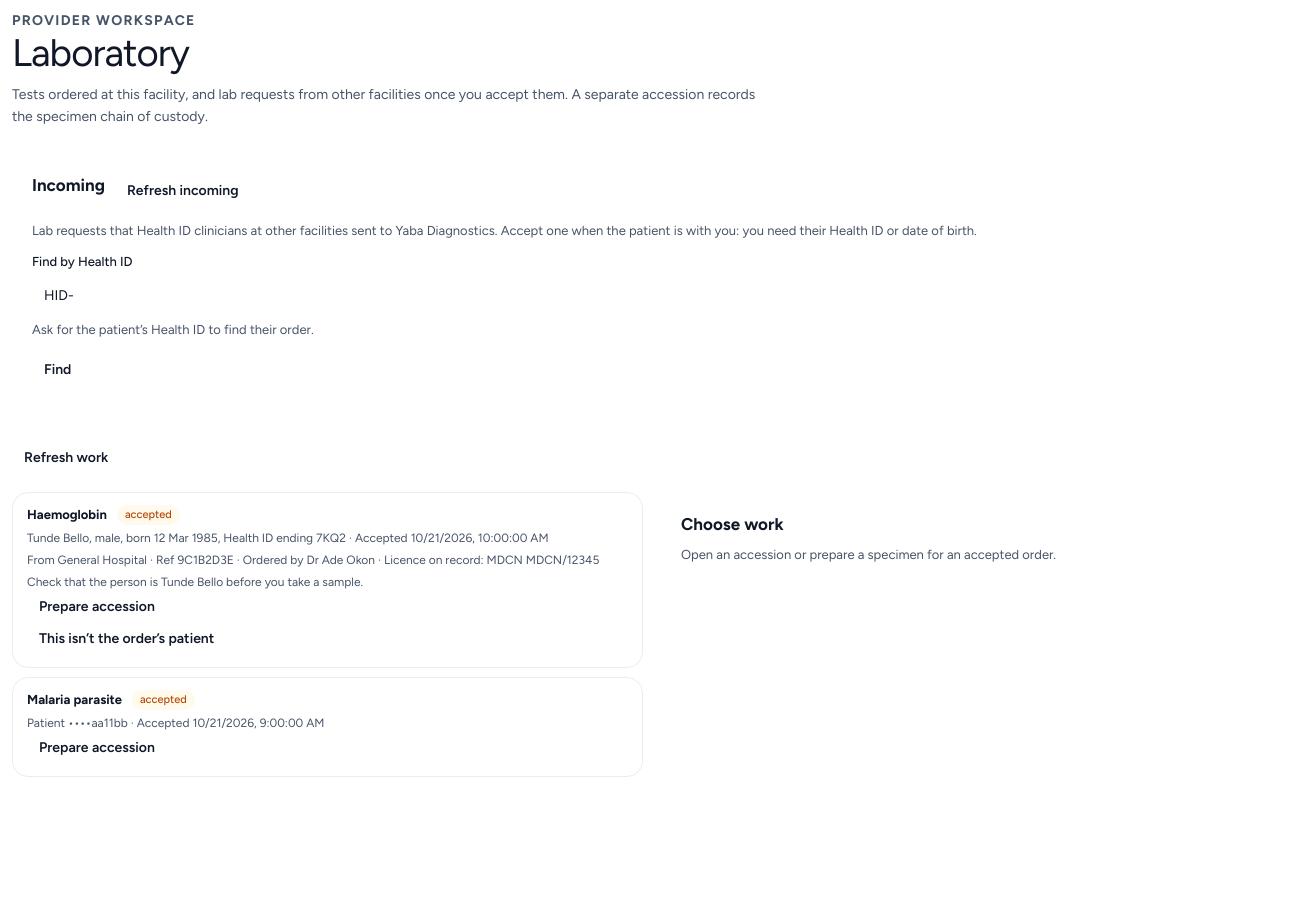
this isn’t the order’s patient, on a work row › ends the order from its row: the message stays, and the row goes once the list is read again (B1)
Check: the text "Haemoglobin" is shown, box [27,505,107,524]
Click the button "This isn’t the order’s patient": (127, 638) [27,622,226,654]
(page scrolled)
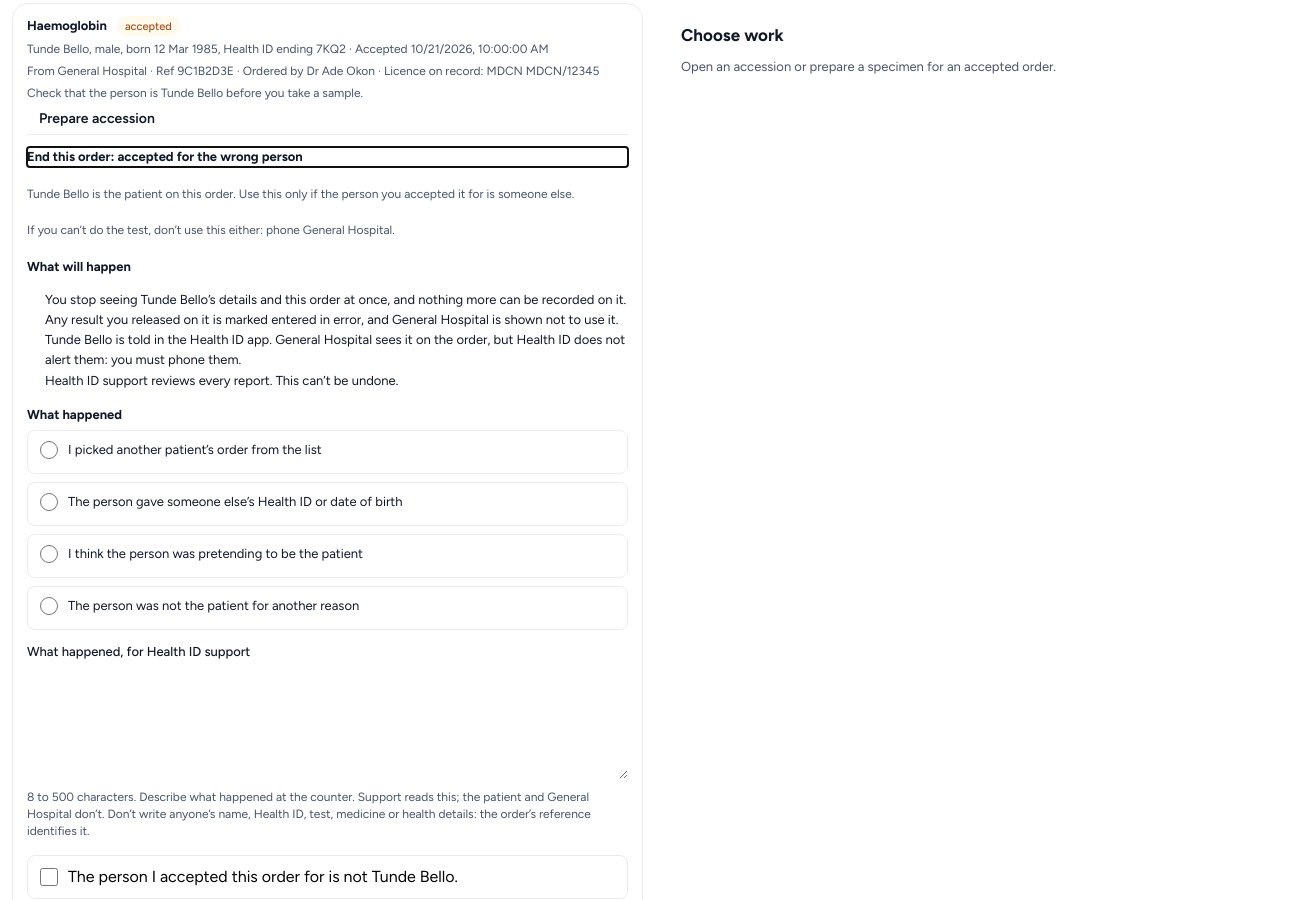
Click the radio button labelled "I picked another patient’s order from the list": (49, 450) [40,441,58,459]
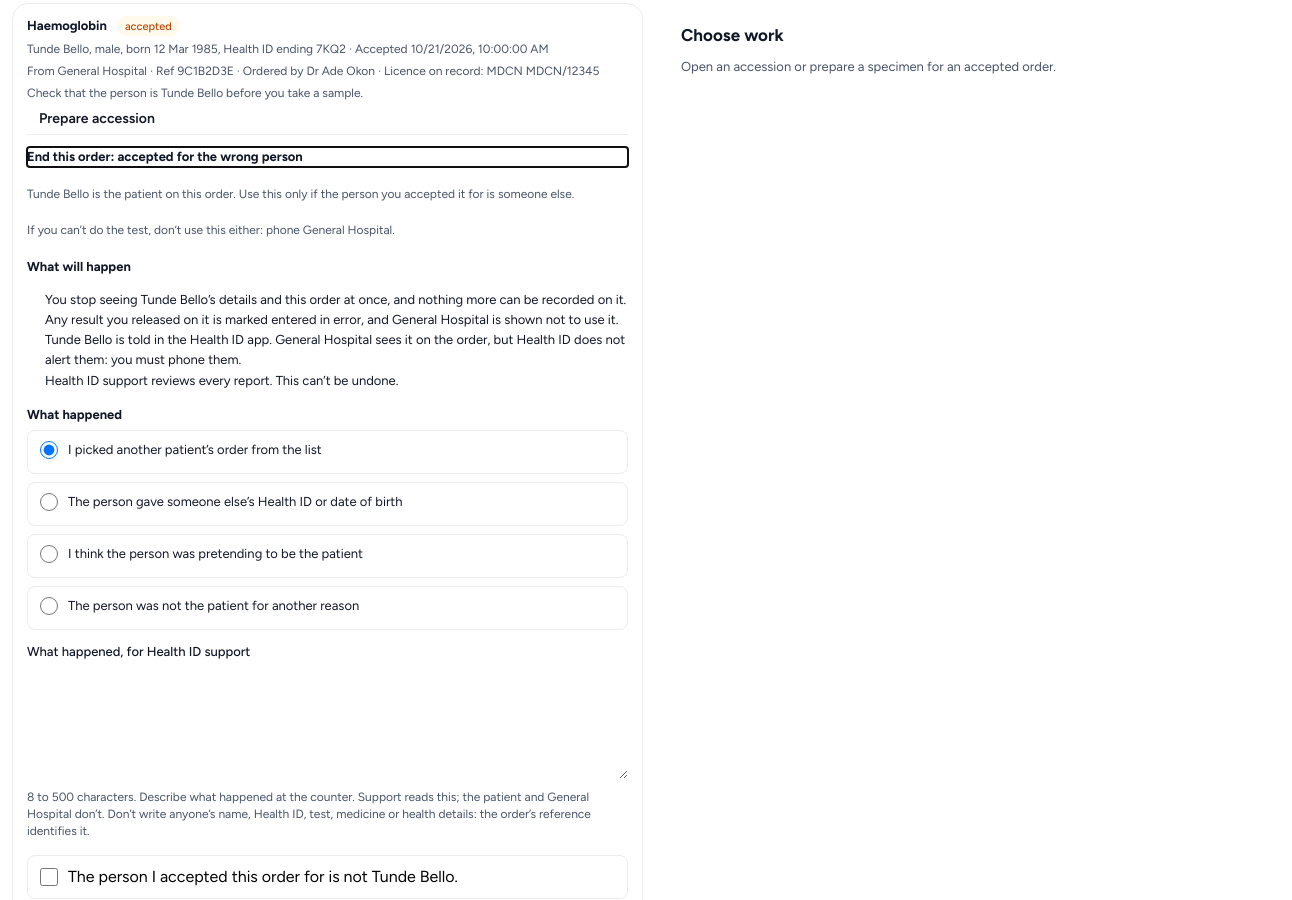
In the text box labelled "What happened, for Health ID support": (328, 722) [27,666,628,778], type "Picked the wrong order from the list"
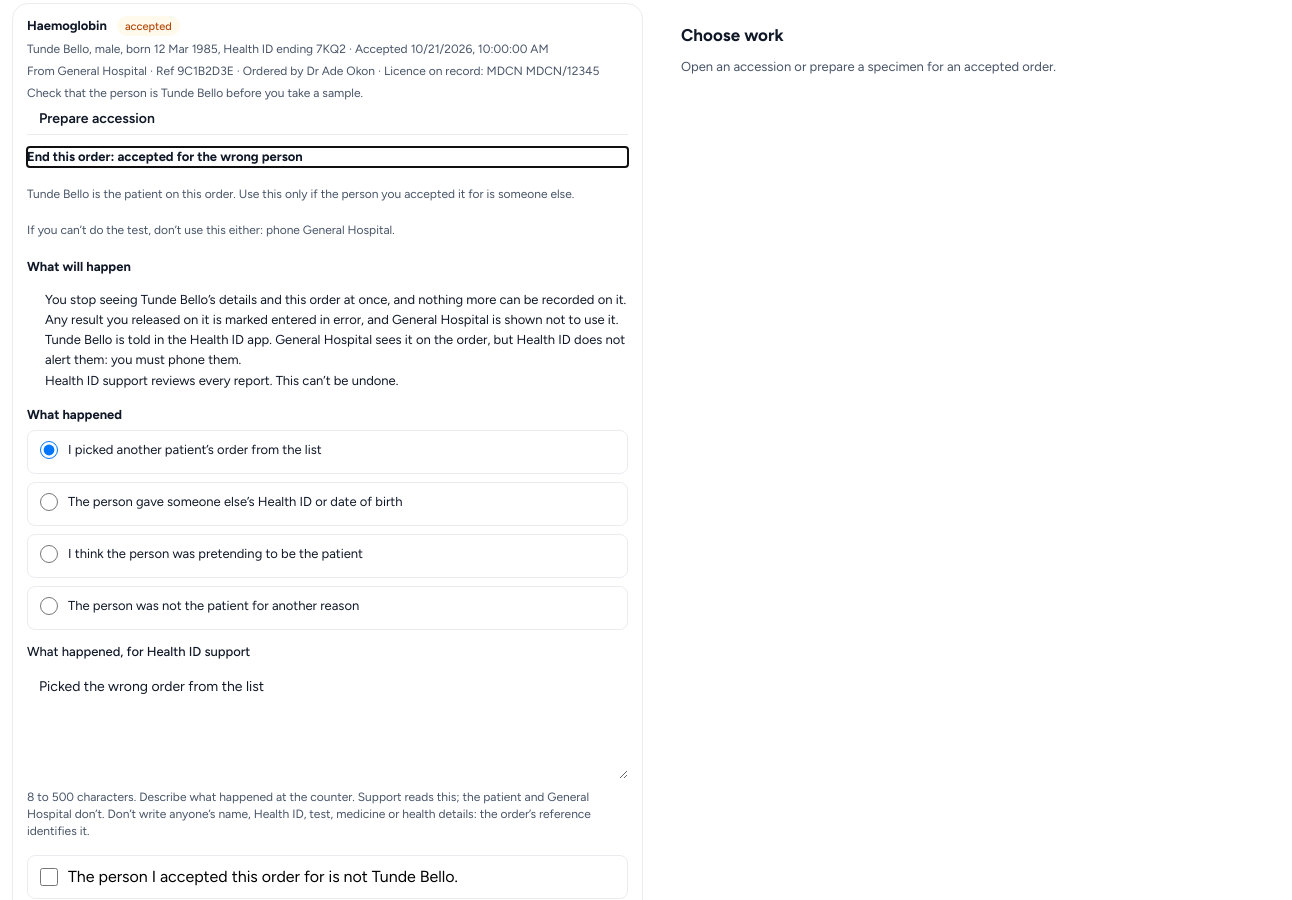
Click the checkbox labelled "The person I accepted this order for is not Tunde Bello.": (49, 877) [40,868,58,886]
(page scrolled)
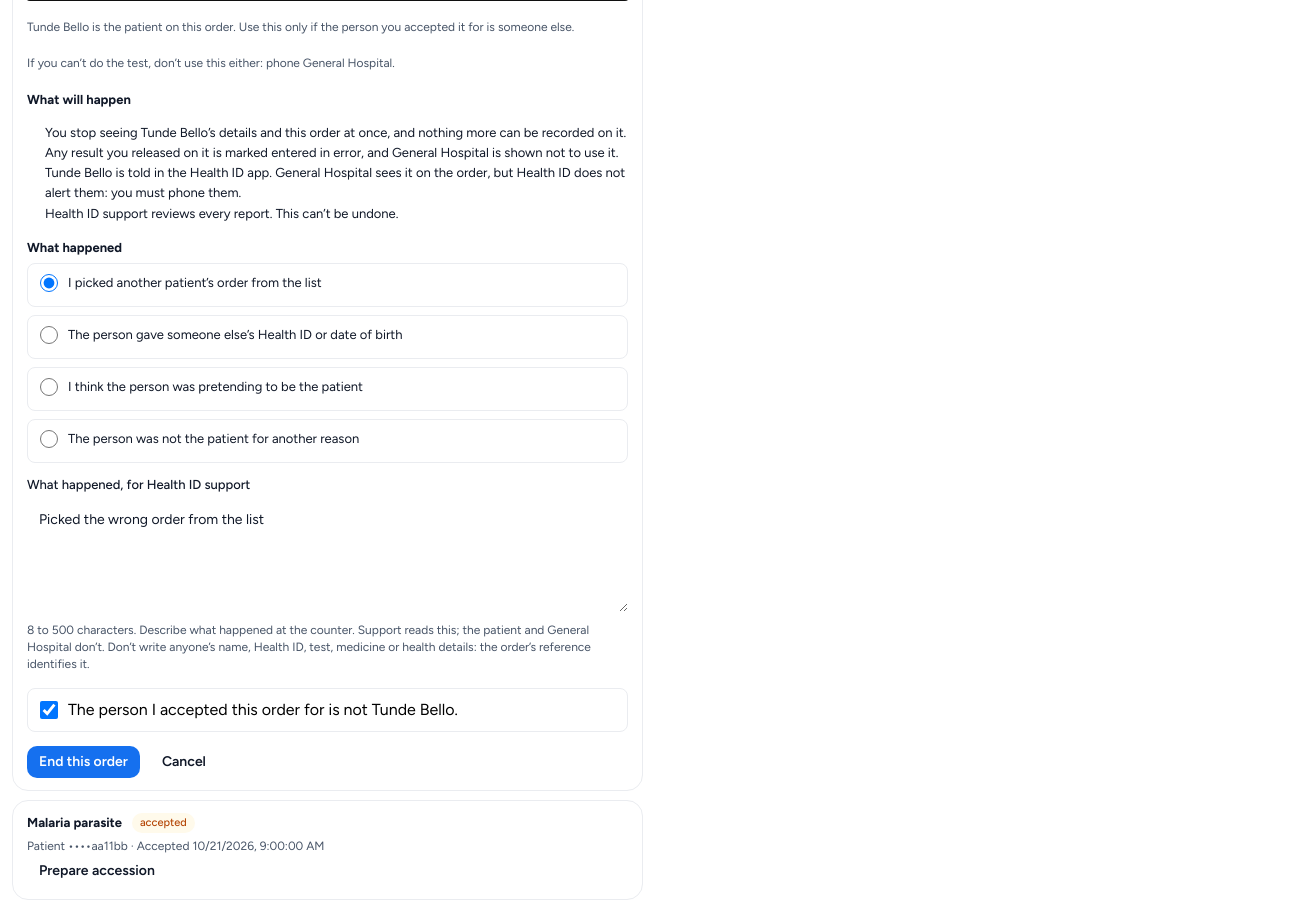
Click the button "End this order": (83, 762) [27,746,140,778]
(page scrolled)
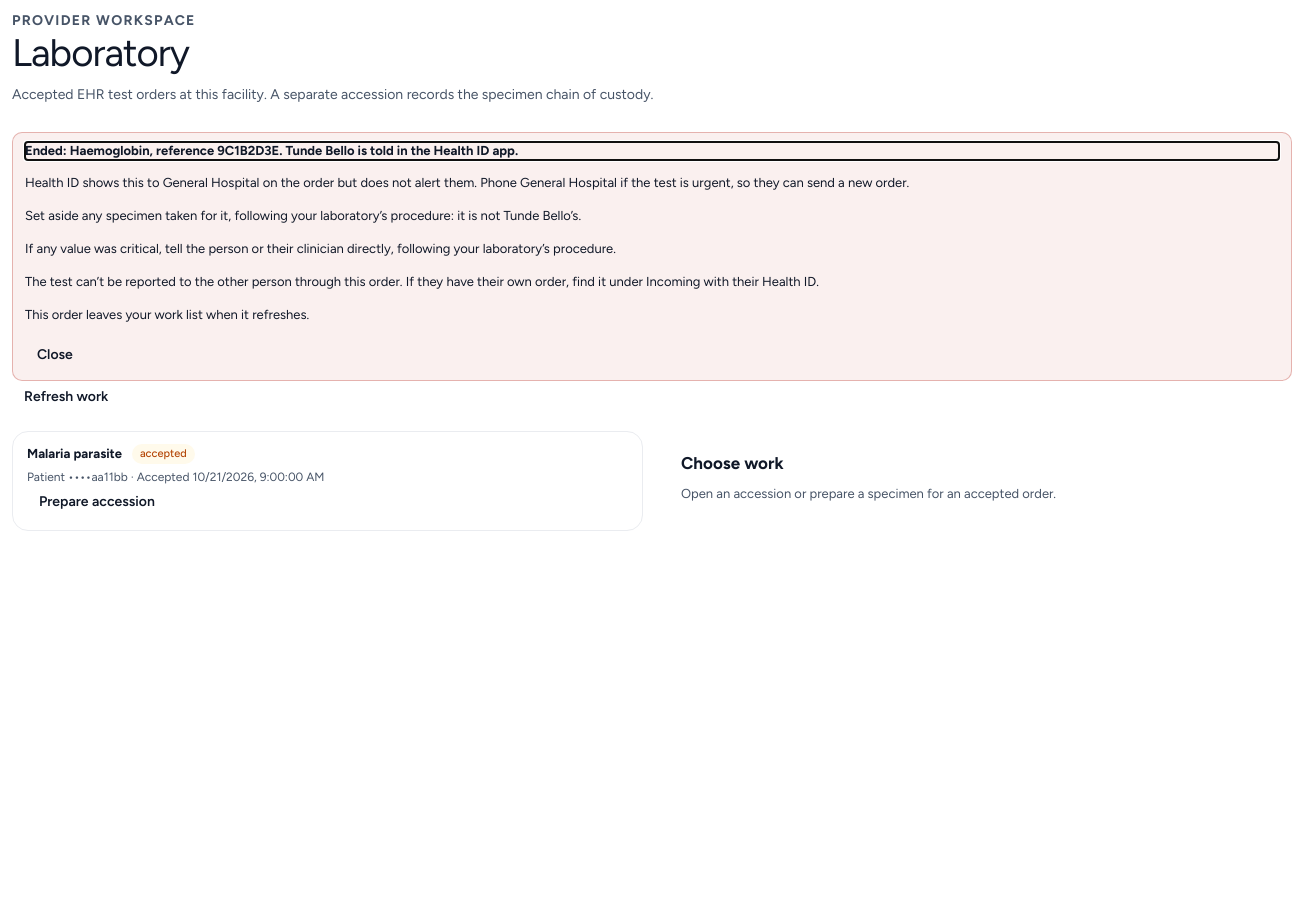
Check: the text "Malaria parasite" is shown, box [27,444,122,463]
Check: the text "Ended: Haemoglobin" is shown, box [25,143,518,158]
